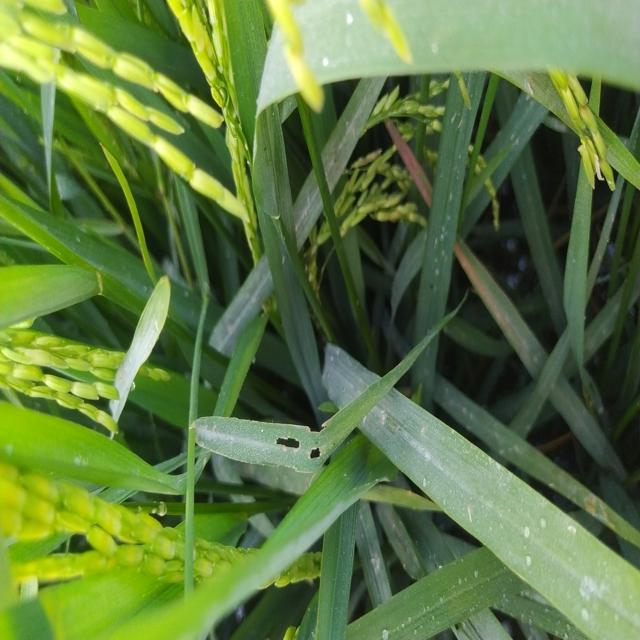Brown spot: (377, 108, 517, 323)
